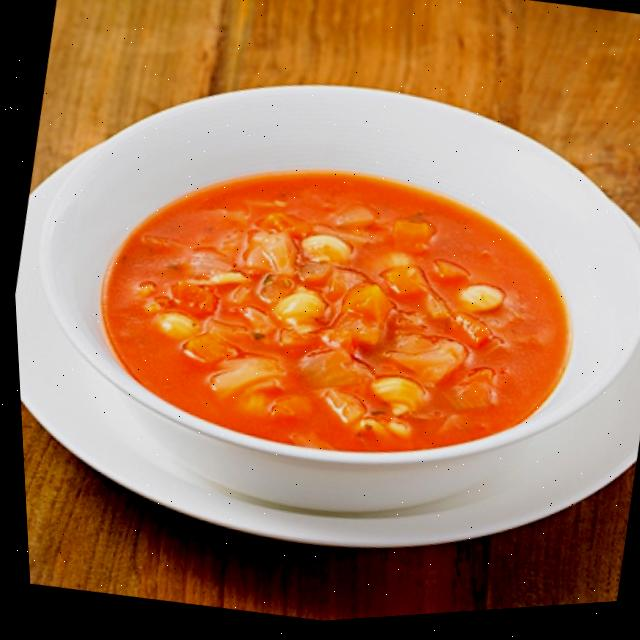面包点心: (7, 147, 631, 640)
